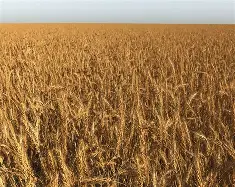crops: (0, 24, 232, 183), (1, 27, 84, 72), (134, 50, 192, 107), (78, 36, 138, 87), (0, 107, 39, 184), (169, 27, 235, 72), (187, 117, 232, 180), (78, 146, 146, 185), (35, 138, 75, 185), (0, 19, 231, 27)
